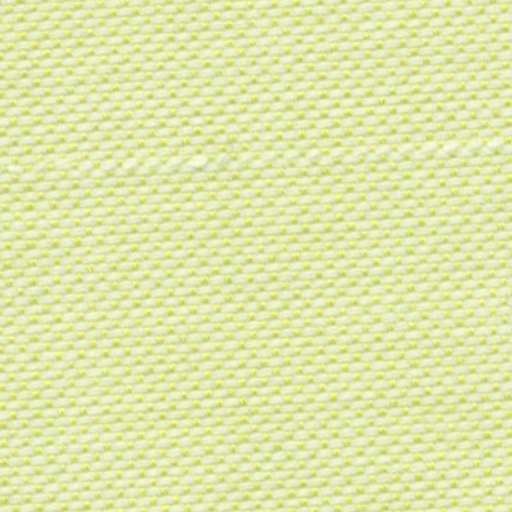TuoSha: (33, 134, 496, 192)
